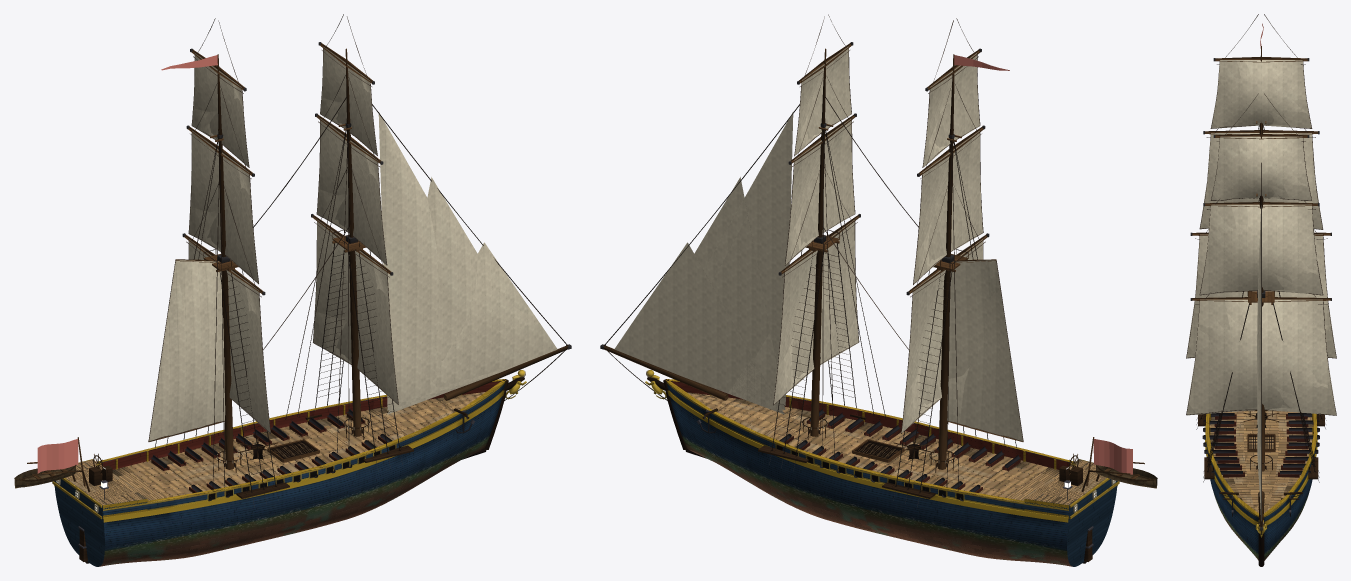
Rendered from brig.glb.
3 views of the same model, side by side, from view 1: azimuth 30°, elevation 25°; view 2: azimuth 150°, elevation 25°; view 3: azimuth 270°, elevation 25° (orthographic). The views are drawn at different scales.
Parts seen in each view (by area): view 1: LOD0_Body, LOD0_Jib, LOD0_Wood, LOD2_m0_SquareSail, LOD2_m1_SquareSail, LOD2_Body, LOD0_m1_AftSail, LOD2_Wood, LOD1_Wood, LOD1_Jib, LOD1_Body, LOD0_m0_SquareSail (+10 smaller); view 2: LOD0_Body, LOD2_Jib, LOD0_Wood, LOD2_m0_SquareSail, LOD2_m1_SquareSail, LOD2_Body, LOD2_m1_AftSail, LOD2_Wood, LOD1_Wood, LOD1_Body, LOD0_m0_SquareSail, LOD1_Jib (+10 smaller); view 3: LOD0_m0_SquareSail, LOD0_m1_SquareSail, LOD0_Body, LOD0_Wood, LOD2_Body, LOD1_m0_SquareSail, LOD2_m0_SquareSail, LOD1_m1_SquareSail, LOD2_m1_SquareSail, LOD0_Jib, LOD0_m0_SquareYards, LOD2_m0_SquareYards (+7 smaller).
Part boxes in pixels (x1,y1,x2,y2): LOD0_Body: (54, 264, 526, 566); LOD0_Jib: (378, 112, 538, 414); LOD0_Wood: (14, 48, 571, 566); LOD2_m0_SquareSail: (314, 49, 397, 402); LOD2_m1_SquareSail: (189, 66, 270, 432); LOD2_Body: (100, 381, 504, 565); LOD0_m1_AftSail: (149, 260, 224, 441); LOD2_Wood: (60, 130, 505, 559); LOD1_Wood: (55, 55, 568, 566); LOD1_Jib: (379, 127, 557, 414); LOD1_Body: (76, 384, 502, 565); LOD0_m0_SquareSail: (313, 46, 397, 400); LOD0_Body: (645, 264, 1117, 566); LOD2_Jib: (614, 112, 793, 413); LOD0_Wood: (600, 48, 1157, 566); LOD2_m0_SquareSail: (774, 54, 856, 395); LOD2_m1_SquareSail: (903, 65, 982, 425); LOD2_Body: (667, 381, 1071, 565); LOD2_m1_AftSail: (948, 260, 1019, 436); LOD2_Wood: (604, 122, 1112, 559); LOD1_Wood: (604, 54, 1116, 566); LOD1_Body: (669, 384, 1097, 565); LOD0_m0_SquareSail: (774, 46, 858, 404); LOD1_Jib: (631, 130, 792, 412); LOD0_m0_SquareSail: (1186, 136, 1328, 414); LOD0_m1_SquareSail: (1186, 60, 1329, 357); LOD0_Body: (1196, 410, 1326, 560); LOD0_Wood: (1198, 46, 1324, 566); LOD2_Body: (1209, 410, 1313, 560); LOD1_m0_SquareSail: (1191, 136, 1329, 411); LOD2_m0_SquareSail: (1187, 136, 1336, 415); LOD1_m1_SquareSail: (1187, 60, 1330, 357); LOD2_m1_SquareSail: (1187, 60, 1336, 358); LOD0_Jib: (1257, 205, 1261, 487); LOD0_m0_SquareYards: (1186, 93, 1336, 415); LOD2_m0_SquareYards: (1192, 135, 1330, 301).
Bounding box in the file's own units: 41.77 × 37.59 × 11.17.
Materials: 5 (3 with a texture image).
